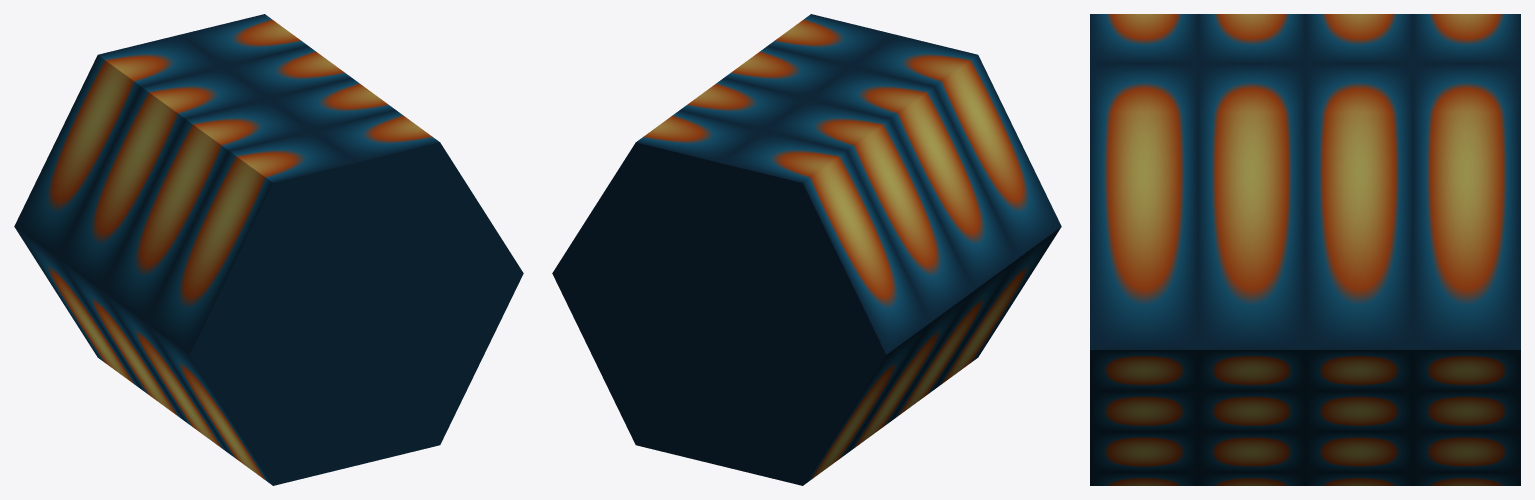
Rendered from hexprism-sunset-c2.glb.
The picture shows the model from 3 angles, left to right: view 1: azimuth 30°, elevation 25°; view 2: azimuth 150°, elevation 25°; view 3: azimuth 270°, elevation 25°; orthographic projection. The views are drawn at different scales.
Visible parts, largest first — view 1: world; view 2: world; view 3: world.
Part boxes in pixels (x1=…): world: x1=14, y1=14, x2=523, y2=485; world: x1=552, y1=14, x2=1061, y2=485; world: x1=1090, y1=14, x2=1520, y2=485.
Size of the model in its own units: 1.1 by 0.9526 by 1.
Materials: 1 (1 with a texture image).
